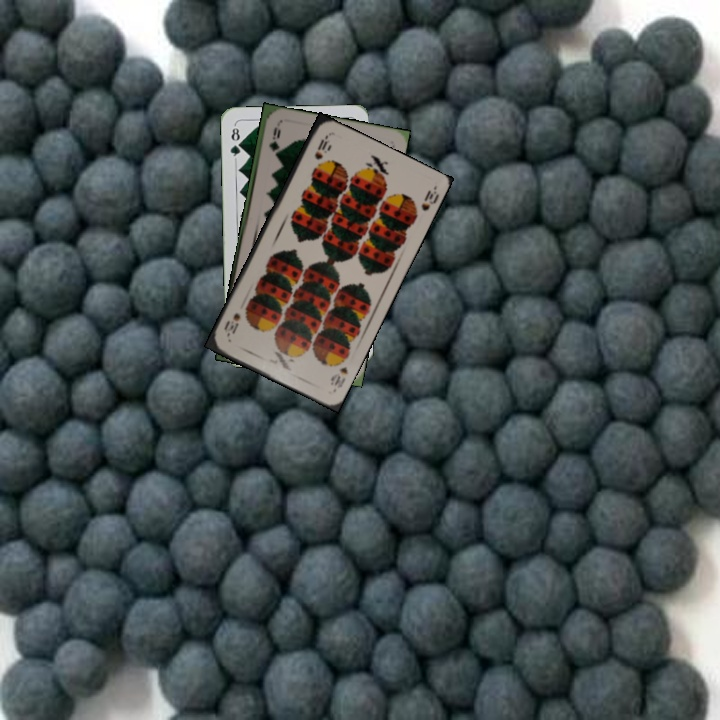G8: (226, 122, 244, 162)
G9: (265, 123, 282, 154)
S10: (326, 363, 351, 391), (310, 132, 330, 162)
